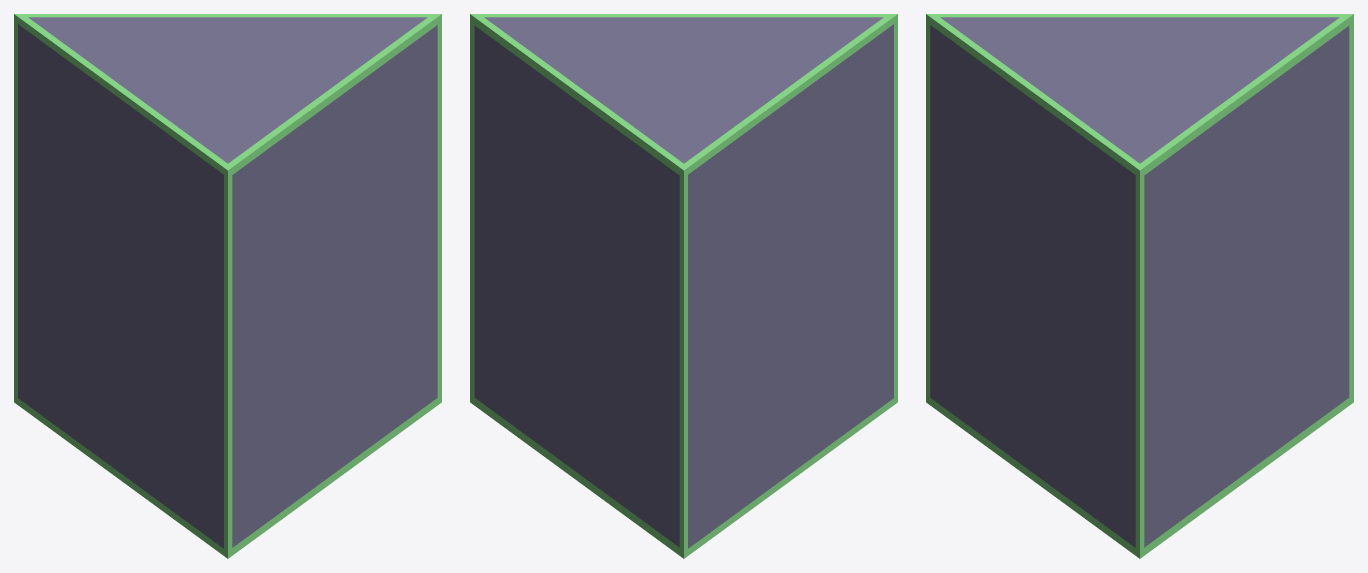
The model's file is Seisankakutyu.fbx.
3 renders of one model, left to right at view 1: azimuth 30°, elevation 25°; view 2: azimuth 150°, elevation 25°; view 3: azimuth 270°, elevation 25°, orthographic.
Parts seen in each view (by area): view 1: Cylinder; view 2: Cylinder; view 3: Cylinder.
Boxes of the visible parts, x1,y1,x2,y2 form: Cylinder: (14,14,441,558); Cylinder: (470,14,897,558); Cylinder: (926,14,1353,558).
Size of the model in its own units: 1.5 by 1.73 by 1.73.
